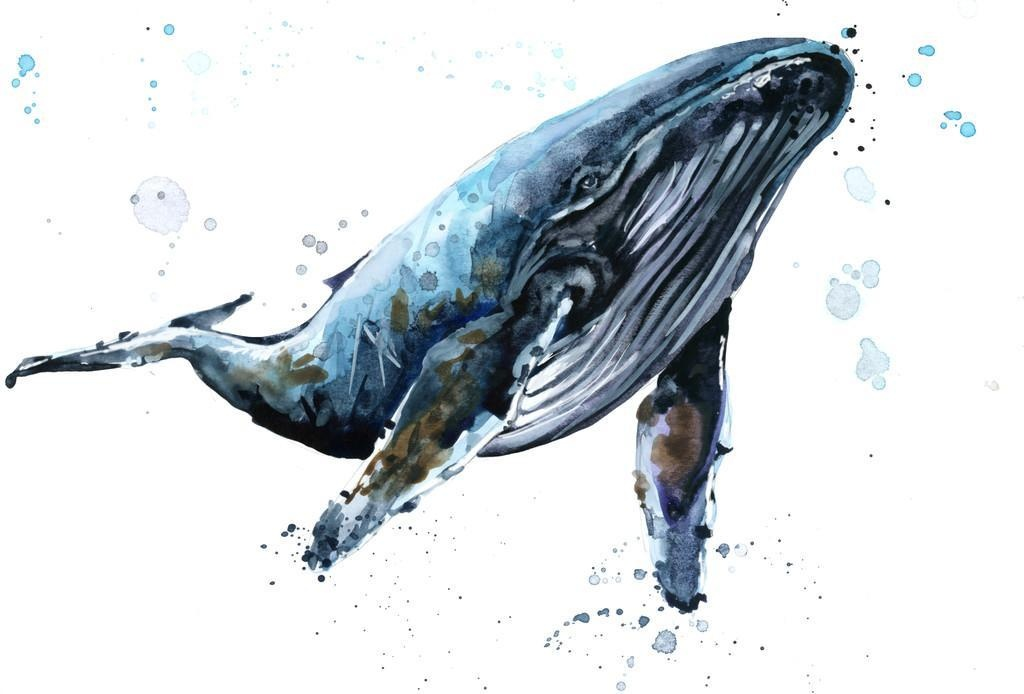fish: (4, 29, 889, 592)
